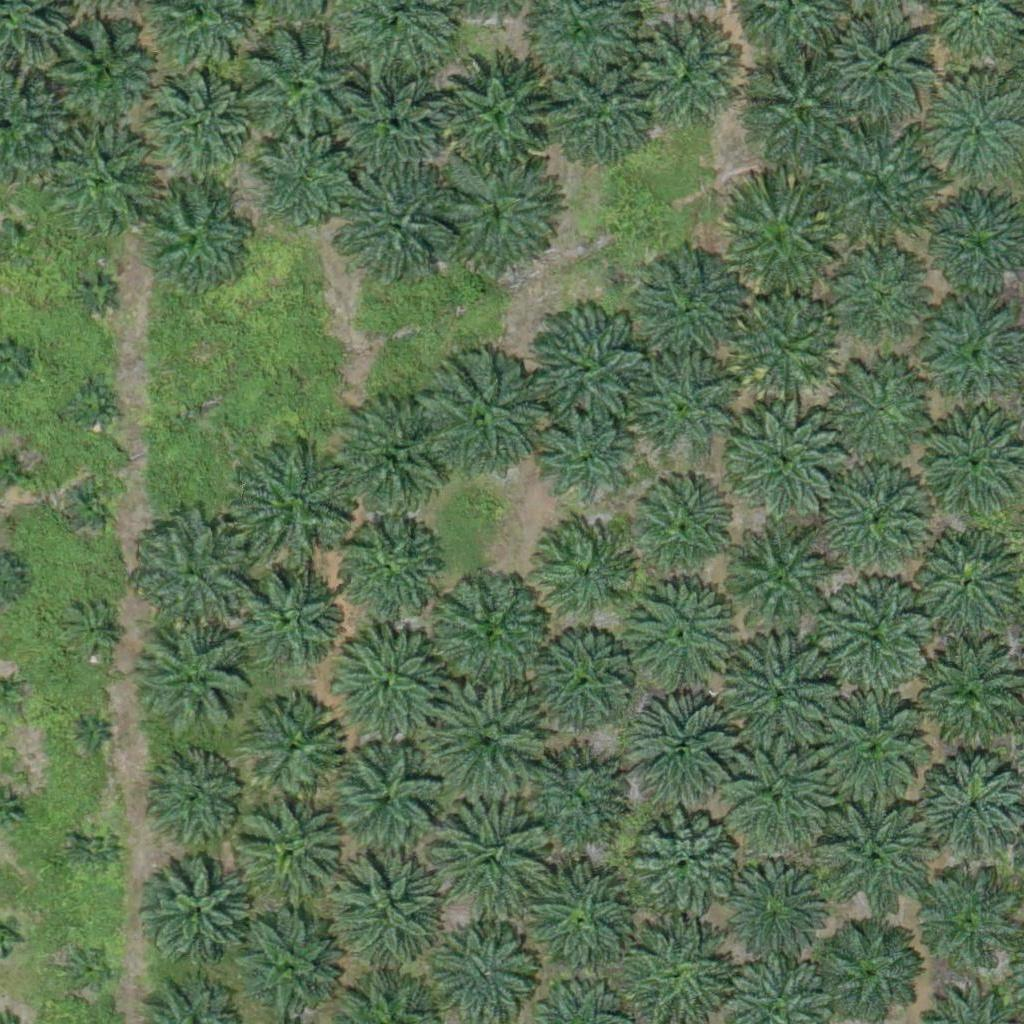Kelapa_Sawit: (33, 3, 158, 129), (234, 27, 359, 153), (334, 163, 459, 289), (433, 48, 558, 174), (437, 152, 562, 278), (524, 306, 649, 432), (418, 359, 543, 485), (235, 444, 360, 570), (425, 677, 550, 803), (427, 567, 552, 693), (322, 845, 447, 971), (429, 793, 554, 919), (717, 181, 842, 306), (135, 64, 248, 178), (248, 126, 361, 240), (337, 398, 450, 512), (139, 183, 252, 296), (540, 56, 653, 169), (827, 13, 940, 126), (731, 400, 844, 513), (728, 527, 841, 640), (722, 640, 835, 753), (621, 574, 734, 687), (721, 748, 834, 861), (815, 691, 928, 804), (327, 625, 440, 738), (326, 742, 439, 855), (819, 806, 932, 919), (715, 851, 828, 964), (622, 696, 734, 810), (236, 797, 348, 911), (46, 131, 158, 244), (332, 71, 444, 184), (631, 19, 743, 132), (742, 49, 854, 162), (824, 136, 936, 249), (909, 525, 1021, 638), (822, 352, 934, 465), (823, 462, 935, 575), (821, 578, 933, 691), (136, 517, 248, 630), (145, 623, 257, 736), (911, 873, 1023, 986), (630, 809, 742, 922), (525, 863, 637, 976), (829, 245, 929, 346), (735, 295, 835, 396), (645, 257, 745, 358), (633, 355, 733, 456), (629, 476, 729, 577), (535, 408, 635, 509), (238, 567, 338, 668), (244, 695, 344, 796), (533, 523, 633, 623), (531, 632, 631, 732), (516, 755, 616, 855), (337, 516, 437, 616), (149, 861, 249, 961), (154, 757, 241, 845), (68, 606, 118, 657), (73, 824, 123, 874), (68, 479, 118, 529), (71, 269, 121, 319), (67, 380, 117, 430), (62, 943, 112, 993), (80, 724, 105, 749)
